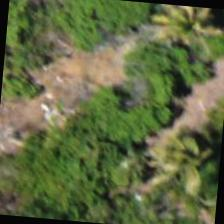Kelapa_Sawit: (132, 110, 223, 208), (143, 3, 223, 84)
